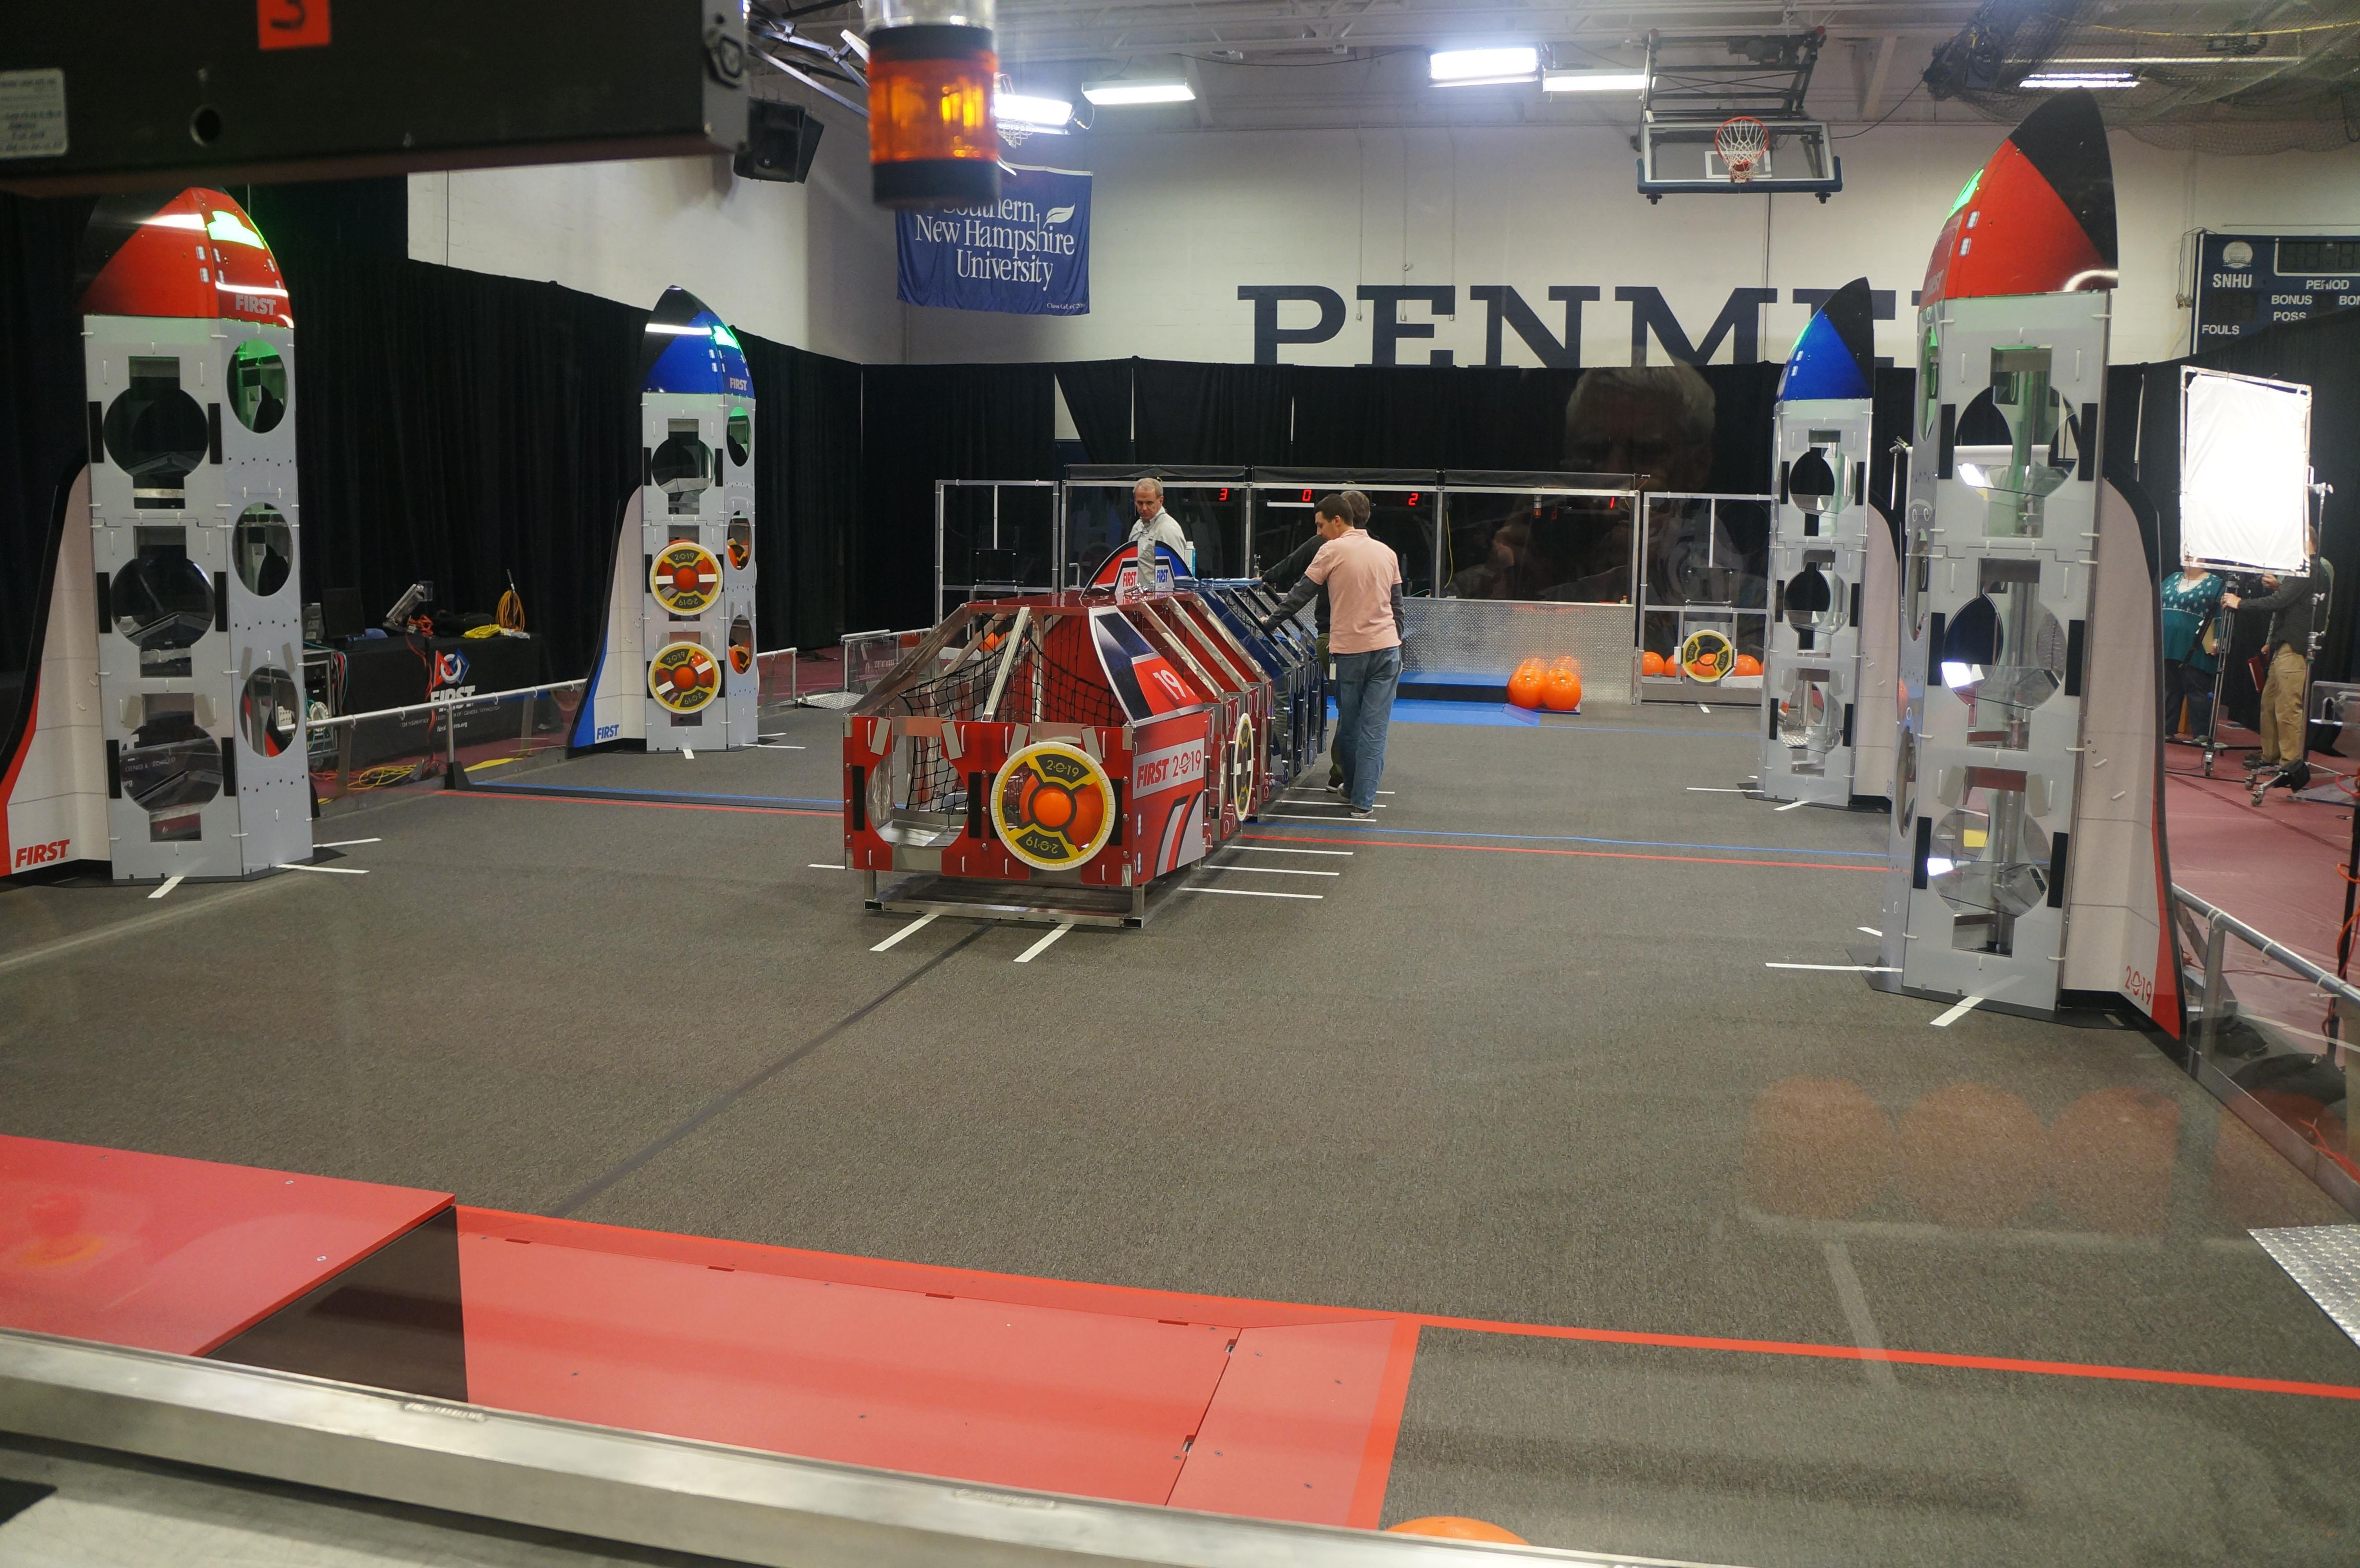Ball: (1020, 763, 1102, 845), (1543, 663, 1587, 709), (1508, 665, 1548, 703)
Hatch: (988, 742, 1114, 873), (644, 635, 721, 716), (646, 541, 723, 616), (1681, 632, 1732, 688)
